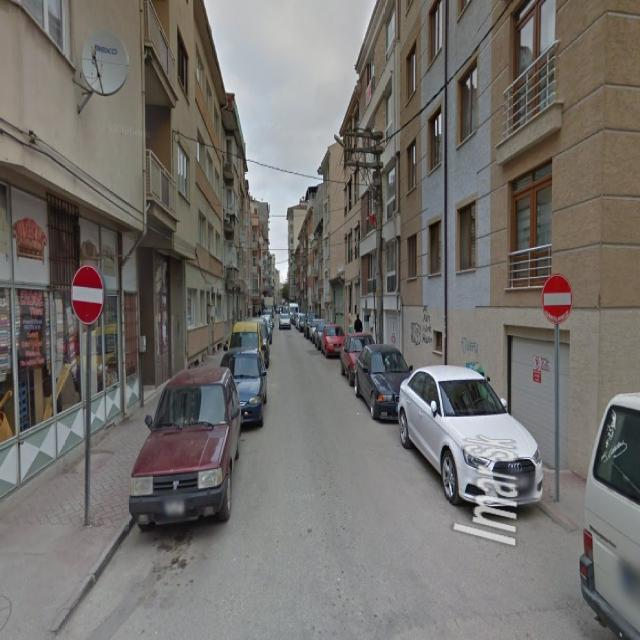girisyok: (71, 266, 104, 325), (542, 274, 573, 325)
